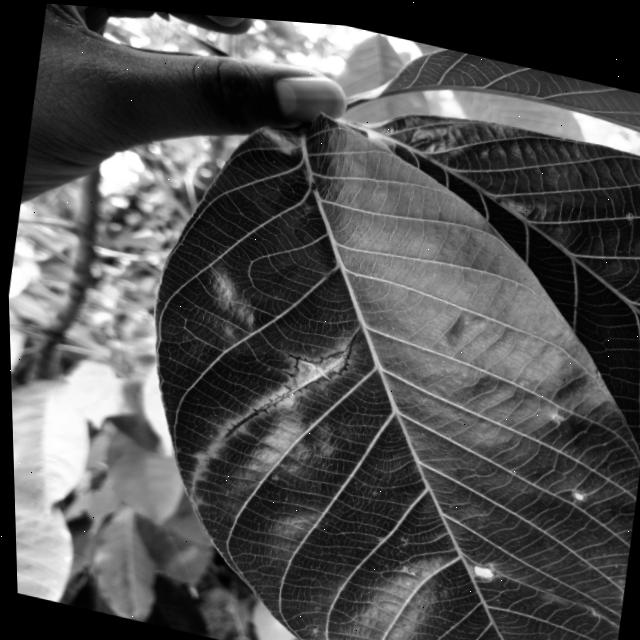Colletotrichum: (217, 302, 358, 461)
